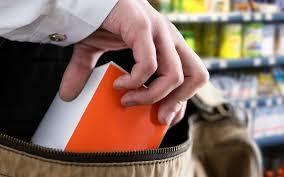shoplifting: (3, 5, 200, 163)
